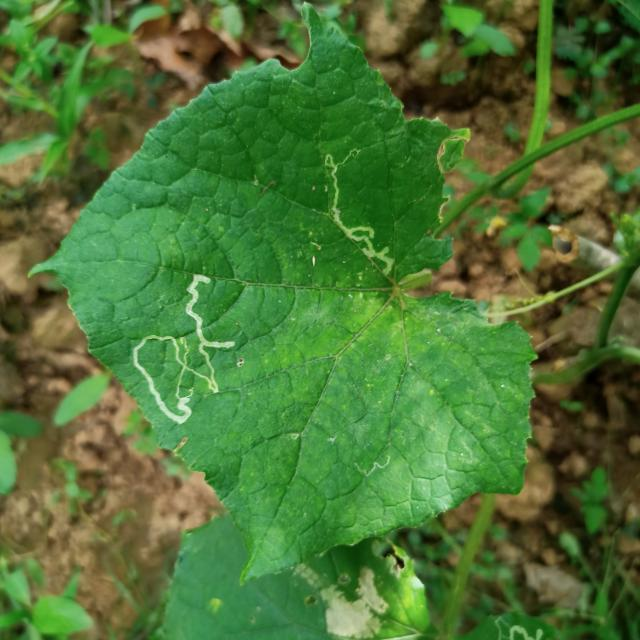disease_cucumber: (294, 560, 386, 638)
